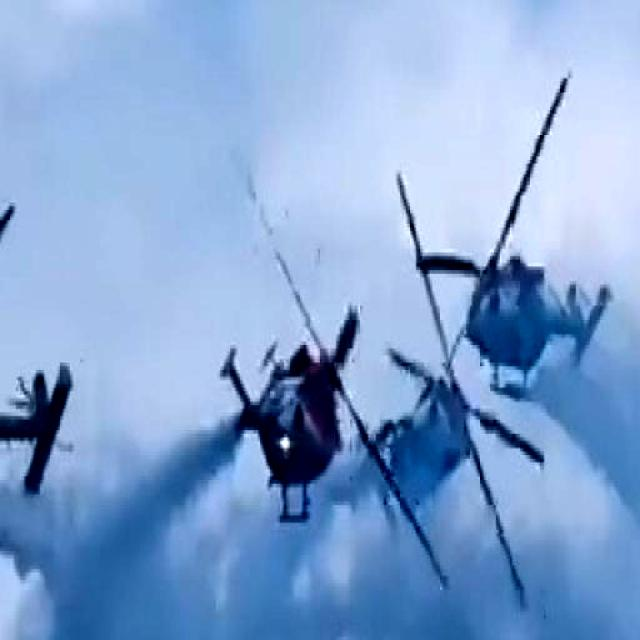drone: (190, 282, 364, 538), (438, 200, 601, 389), (0, 246, 82, 551)
